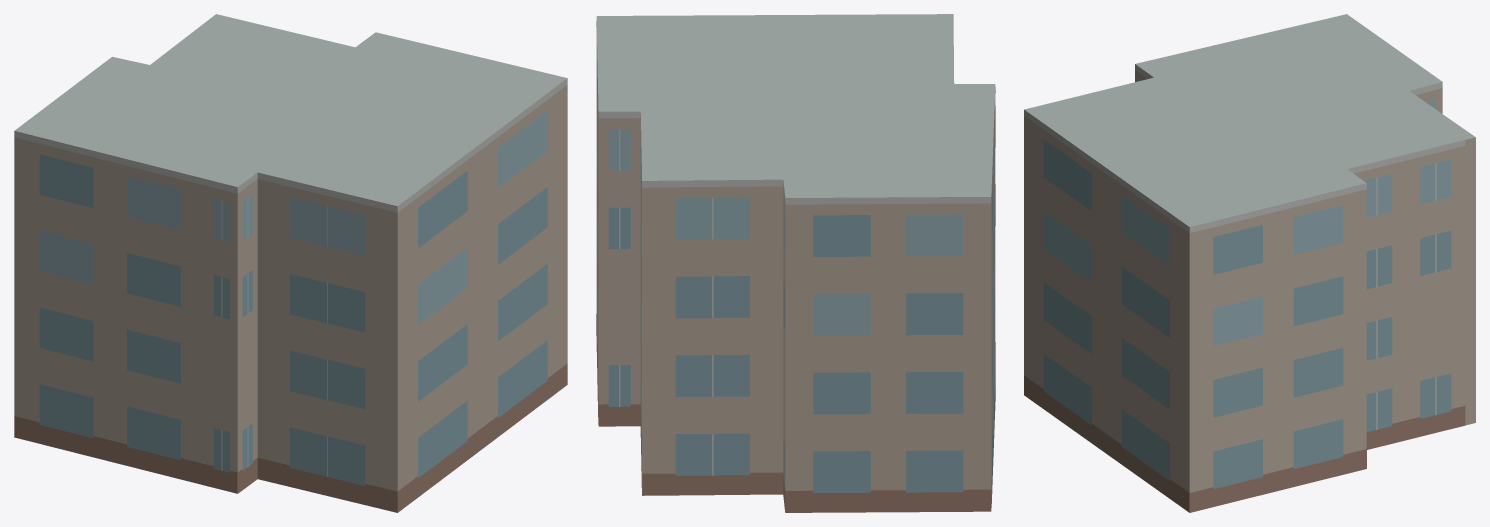
Rendered from survey-upis-32724257.glb.
The picture shows the model from 3 angles, left to right: view 1: azimuth 30°, elevation 25°; view 2: azimuth 150°, elevation 25°; view 3: azimuth 270°, elevation 25°; orthographic projection. The views are drawn at different scales.
Visible parts, largest first — view 1: survey-upis-32724257.tmp; view 2: survey-upis-32724257.tmp; view 3: survey-upis-32724257.tmp.
Boxes of the visible parts, x1=… form: survey-upis-32724257.tmp: x1=14, y1=14, x2=567, y2=512; survey-upis-32724257.tmp: x1=596, y1=14, x2=995, y2=512; survey-upis-32724257.tmp: x1=1024, y1=14, x2=1475, y2=512.
Bounding box in the file's own units: 18.57 × 11.6 × 16.63.
